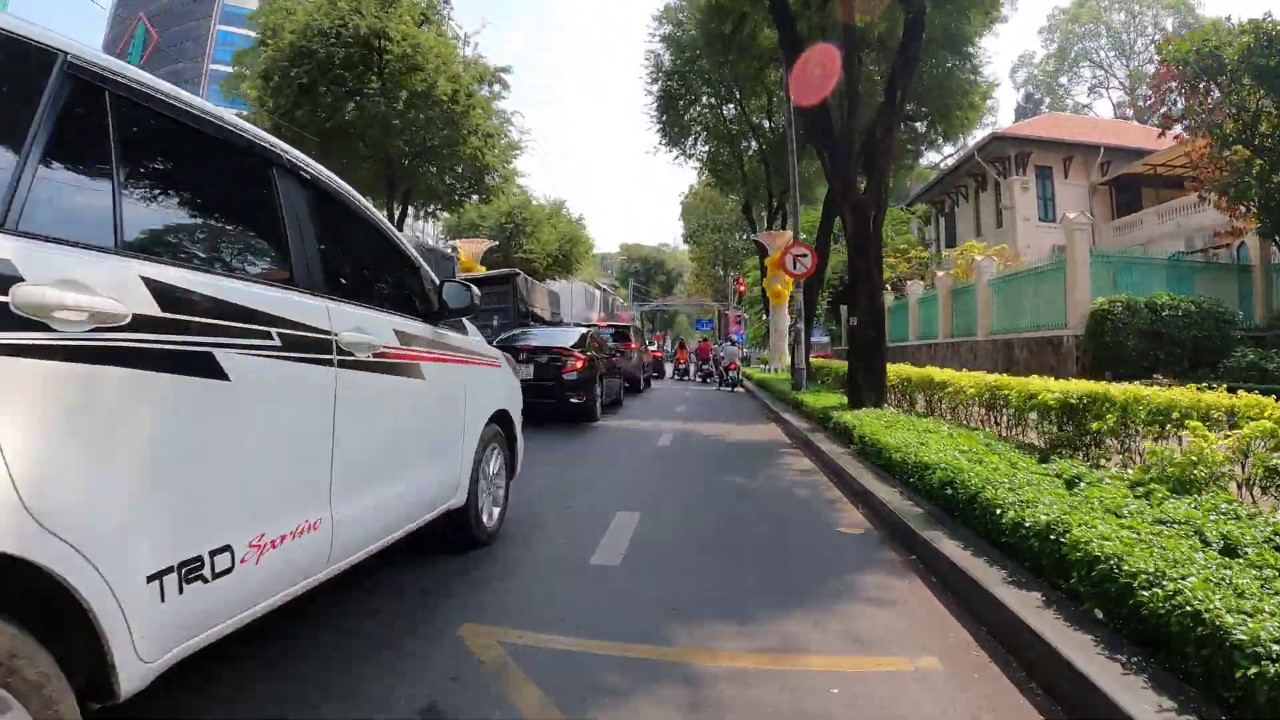cam_re_phai: (780, 241, 817, 280)
